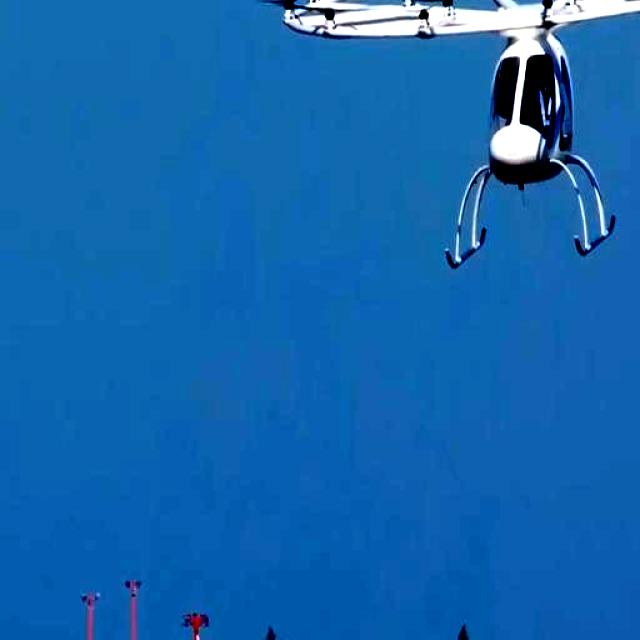drone: (274, 0, 640, 270)
